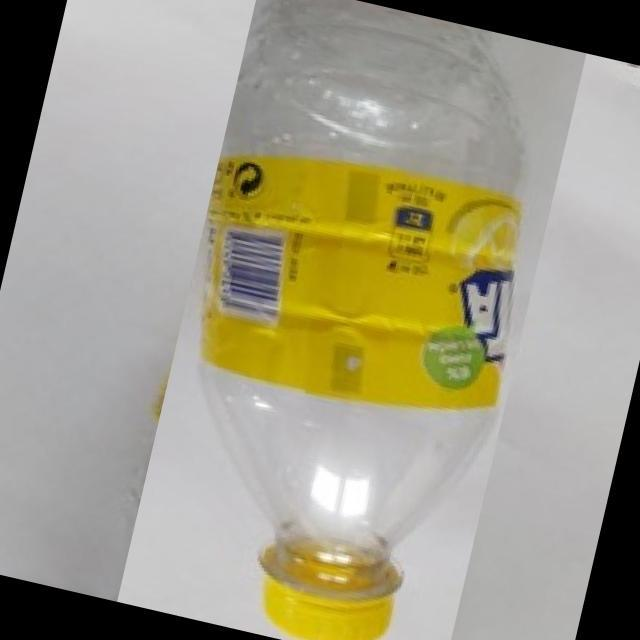good: (115, 0, 584, 640)
